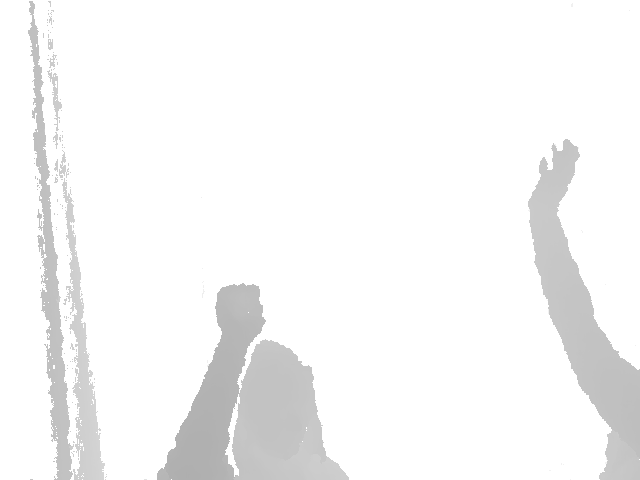hand: (526, 140, 580, 214), (215, 284, 266, 342)
head: (234, 342, 325, 457)
person: (526, 140, 640, 480), (153, 284, 349, 480)
